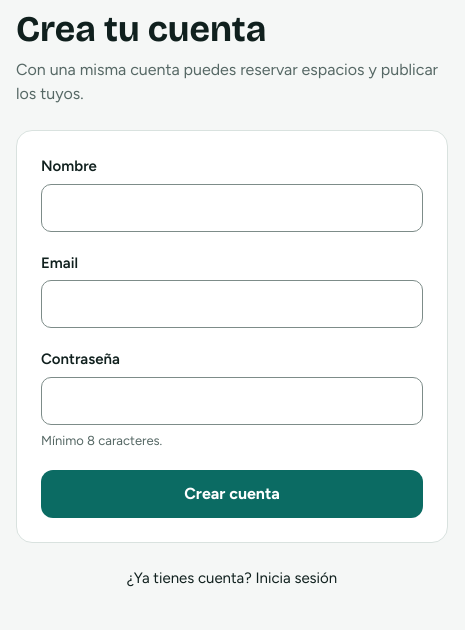
it: RegisterPage › muestra el 409 de email repetido junto al campo email
Type "Ana" into the field labelled "Nombre".
click(232, 208); type("Ana")  # box [41,184,423,232]
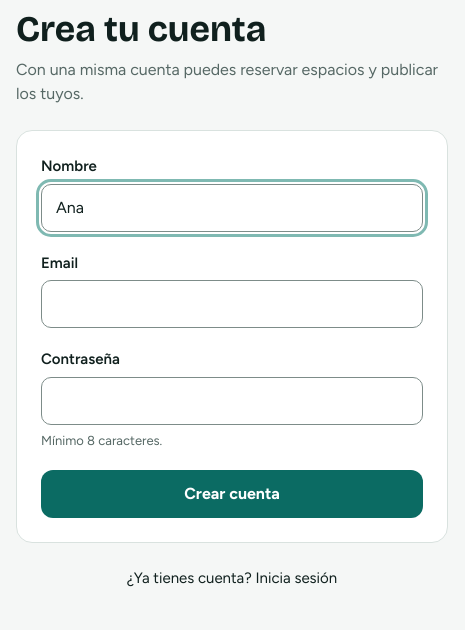
Type "ana@mail.com" into the field labelled "Email".
click(232, 304); type("ana@mail.com")  # box [41,280,423,328]
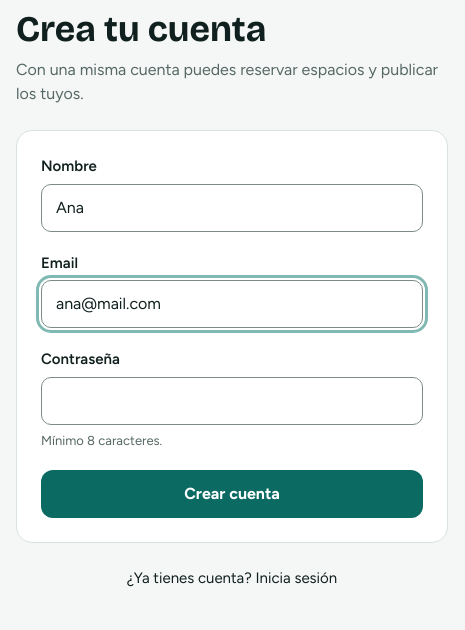
Type "Password123" into the password field labelled "Contraseña".
click(232, 400); type("Password123")  # box [41,376,423,424]
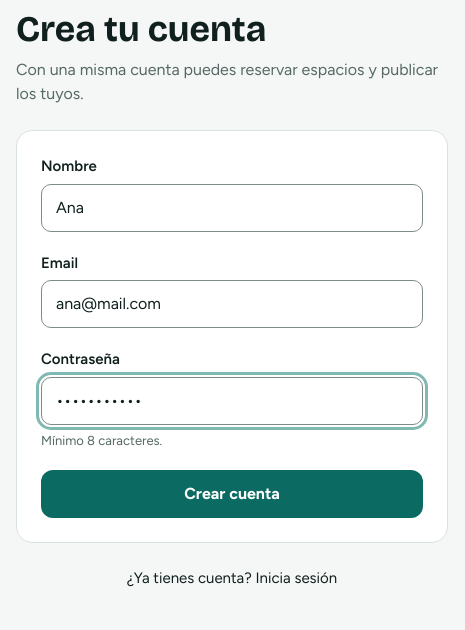
Click the button "Crear cuenta".
click(232, 494)  # box [41,470,423,518]
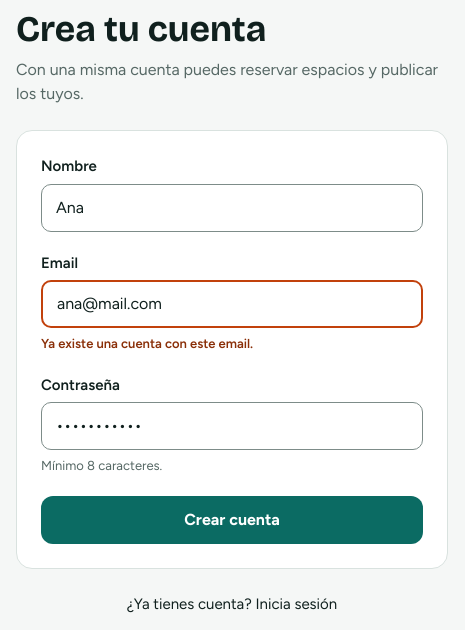
Expected: the text "Ya existe una cuenta con este email." is shown, [41,336,253,351]
